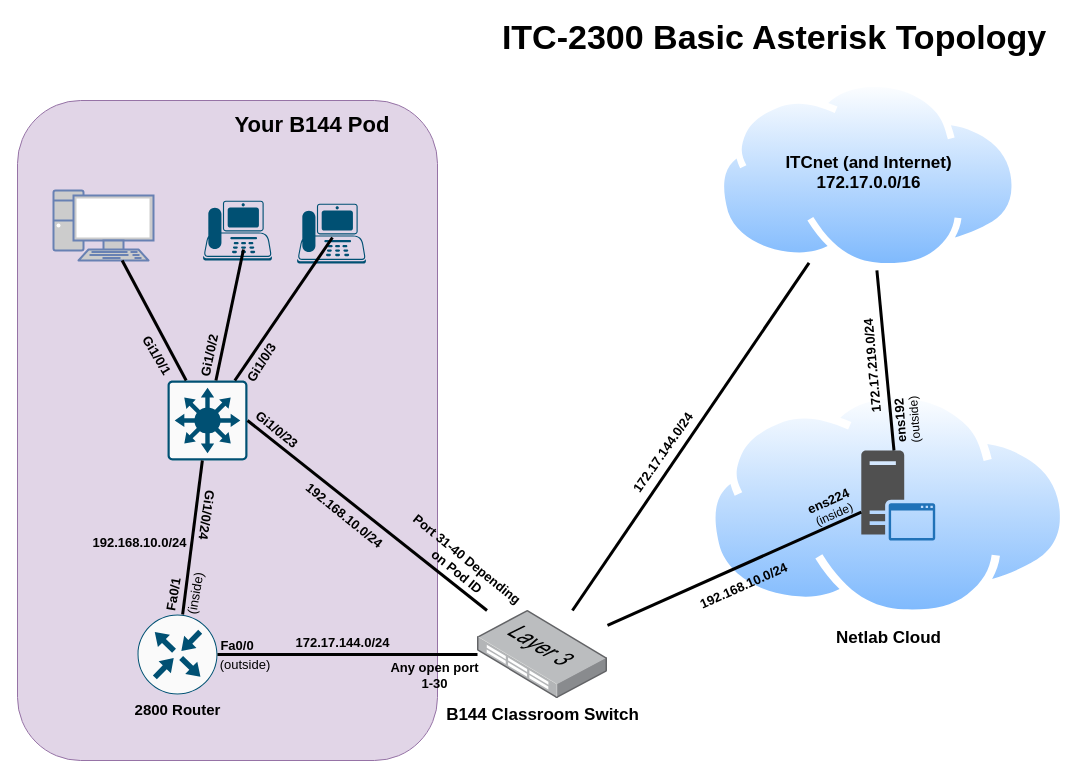
Image size: 1087x778. Some labels were removed from this diagram. Here are the shapes that lost their labels. From the top down, the box of each, then its label:
(166, 380, 248, 460): 3650 Switch
(861, 450, 935, 540): Asterisk Server
